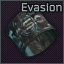Evasion armband: (0, 0, 64, 64)
